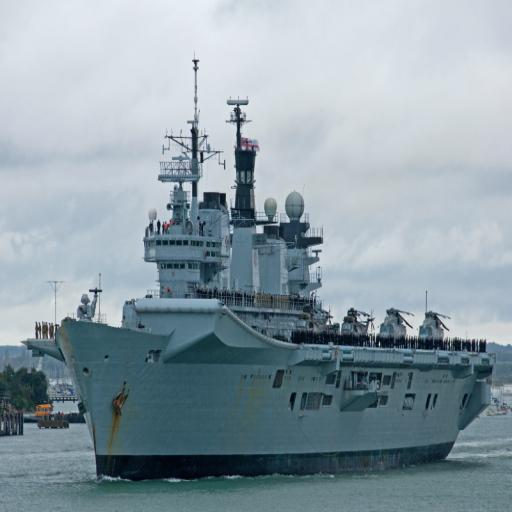Portanaves: (22, 50, 502, 490)
